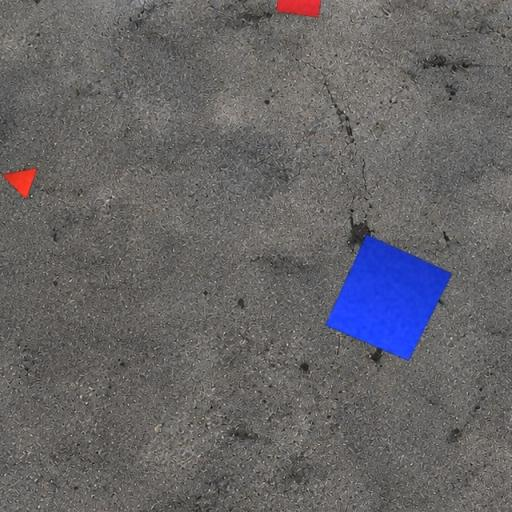BLUE_SQUARE: (324, 234, 453, 362)
